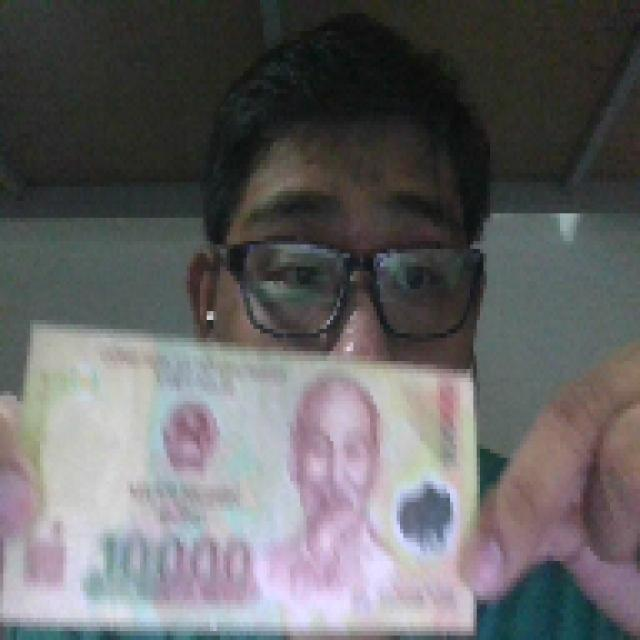10 000 VND: (0, 315, 483, 635)
